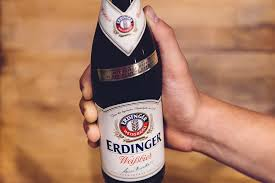beer: (91, 2, 166, 183)
